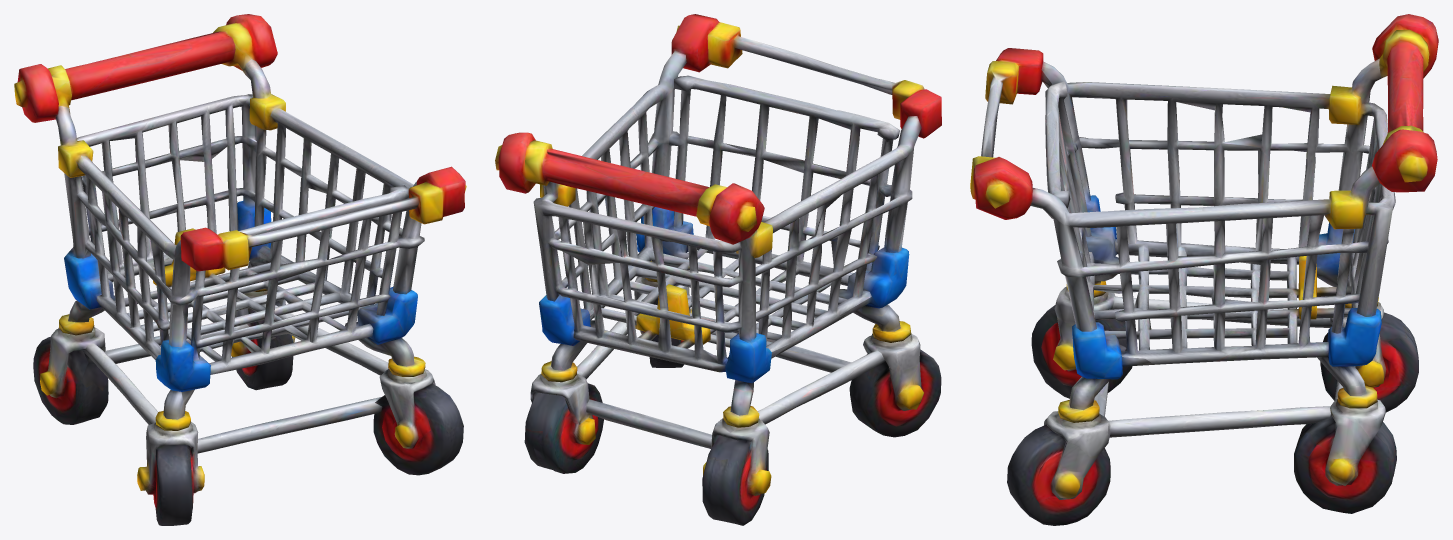
The model's file is babymarket-cart.glb.
The picture shows the model from 3 angles, left to right: view 1: azimuth 30°, elevation 25°; view 2: azimuth 150°, elevation 25°; view 3: azimuth 270°, elevation 25°; orthographic projection. The views are drawn at different scales.
Parts seen in each view (by area): view 1: tripo_part_0, tripo_part_3, tripo_part_1, tripo_part_7, tripo_part_5, tripo_part_4, tripo_part_2, tripo_part_13, tripo_part_8, tripo_part_6, tripo_part_10, tripo_part_11 (+3 smaller); view 2: tripo_part_0, tripo_part_3, tripo_part_4, tripo_part_7, tripo_part_6, tripo_part_5, tripo_part_2, tripo_part_10, tripo_part_9, tripo_part_11, tripo_part_14, tripo_part_8 (+3 smaller); view 3: tripo_part_0, tripo_part_1, tripo_part_6, tripo_part_3, tripo_part_7, tripo_part_4, tripo_part_5, tripo_part_12, tripo_part_8, tripo_part_9, tripo_part_2, tripo_part_10 (+1 smaller).
Boxes of the visible parts, x1,y1,x2,y2 form: tripo_part_0: (55,59,424,374); tripo_part_3: (14,14,277,122); tripo_part_1: (373,356,463,475); tripo_part_7: (180,166,466,271); tripo_part_5: (33,314,108,424); tripo_part_4: (137,411,204,525); tripo_part_2: (146,304,210,419); tripo_part_13: (197,397,382,453); tripo_part_8: (345,287,417,366); tripo_part_6: (231,288,295,390); tripo_part_10: (64,253,115,322); tripo_part_11: (83,343,157,424); tripo_part_0: (533,50,921,372); tripo_part_3: (495,132,764,244); tripo_part_4: (849,321,941,437); tripo_part_7: (671,14,941,138); tripo_part_6: (524,361,603,473); tripo_part_5: (702,406,771,525); tripo_part_2: (839,204,909,331); tripo_part_10: (725,333,791,415); tripo_part_9: (539,294,595,370); tripo_part_11: (758,351,885,424); tripo_part_14: (586,399,711,448); tripo_part_8: (636,207,693,267); tripo_part_0: (1030,58,1395,363); tripo_part_1: (1007,400,1110,525); tripo_part_6: (1286,386,1396,513); tripo_part_3: (1372,14,1438,192); tripo_part_7: (970,48,1051,219); tripo_part_4: (1031,281,1132,398); tripo_part_5: (1320,297,1418,412); tripo_part_12: (1108,406,1330,442); tripo_part_8: (1069,322,1165,410); tripo_part_9: (1317,305,1381,395); tripo_part_2: (1083,178,1118,284); tripo_part_10: (1316,222,1354,286).
Size of the model in its own units: 0.8035 by 0.9052 by 1.
Materials: 1 (1 with a texture image).
